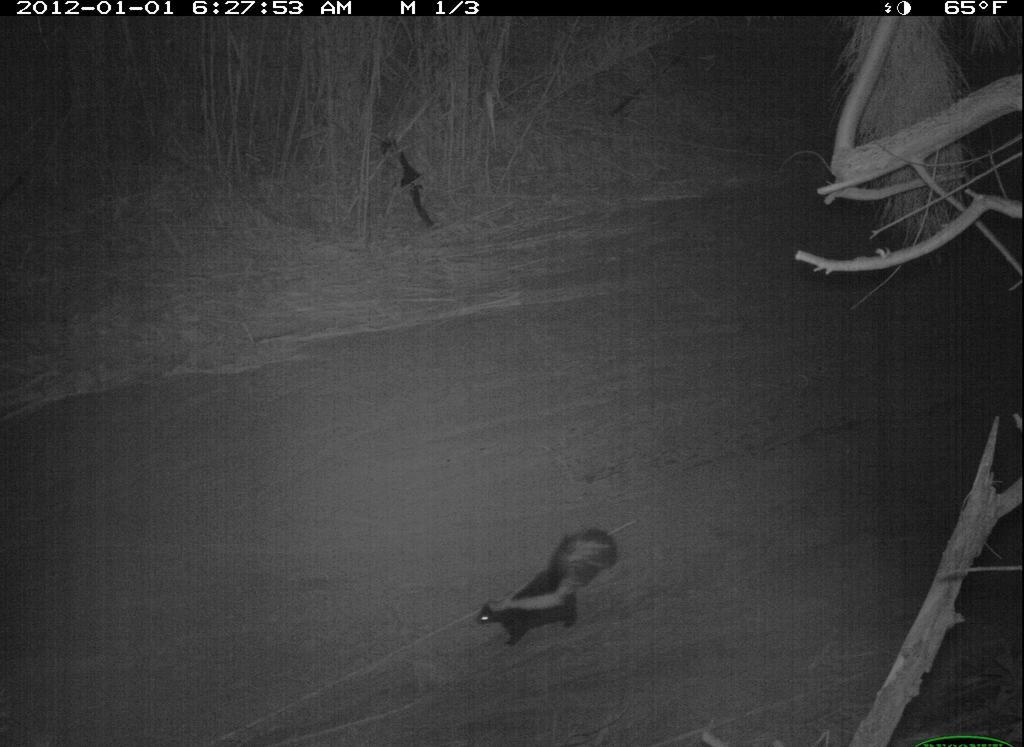skunk: (472, 524, 625, 651)
